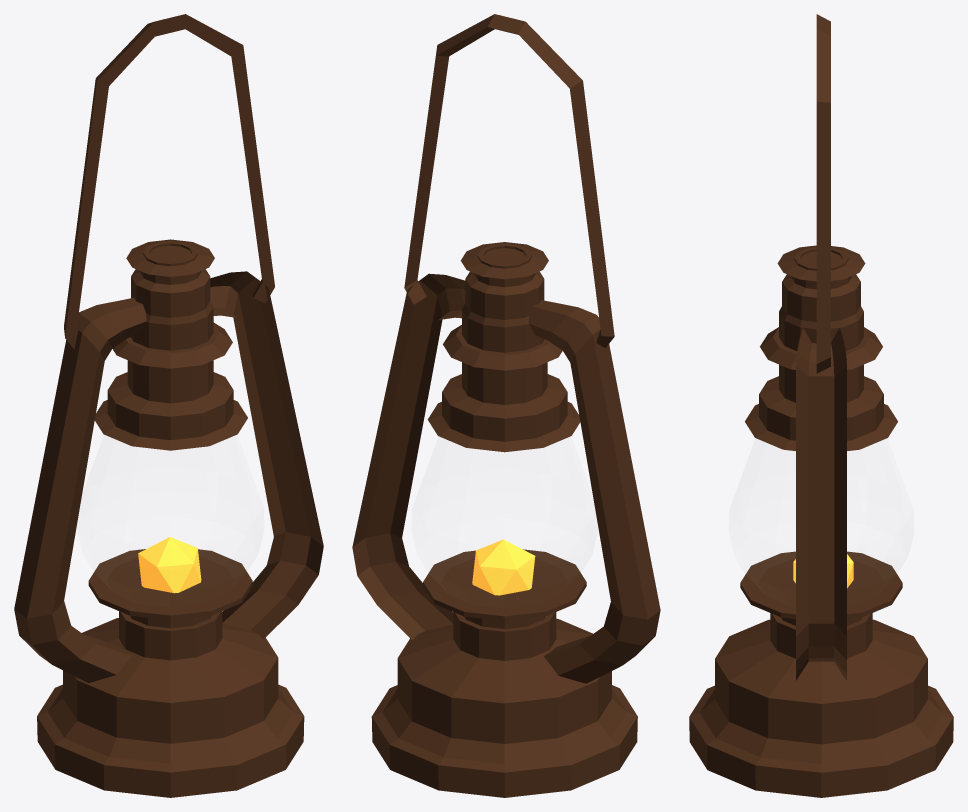
Rendered from lantern.glb.
3 views of the same model, side by side, from view 1: azimuth 30°, elevation 25°; view 2: azimuth 150°, elevation 25°; view 3: azimuth 270°, elevation 25° (orthographic).
Visible parts, largest first — view 1: Oil Lantern; view 2: Oil Lantern; view 3: Oil Lantern.
Boxes of the visible parts, x1,y1,x2,y2 form: Oil Lantern: (14, 14, 323, 797); Oil Lantern: (352, 14, 660, 797); Oil Lantern: (689, 14, 953, 797).
Bounding box in the file's own units: 0.3976 × 0.93 × 0.3101.
